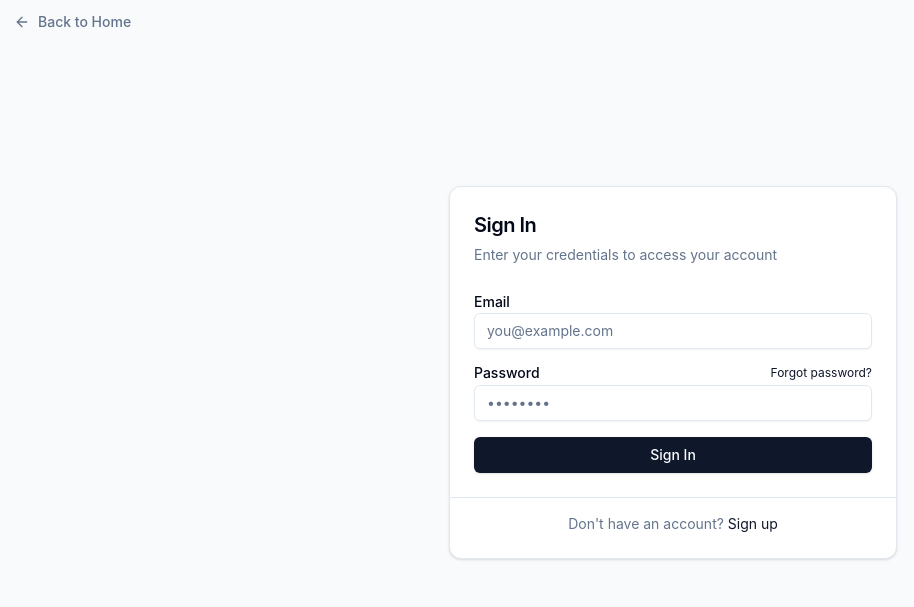
Login Component › displays error message if login fails
Type "test@example.com" into the field labelled "Email". click: x=673, y=330
box: [474, 312, 872, 348]
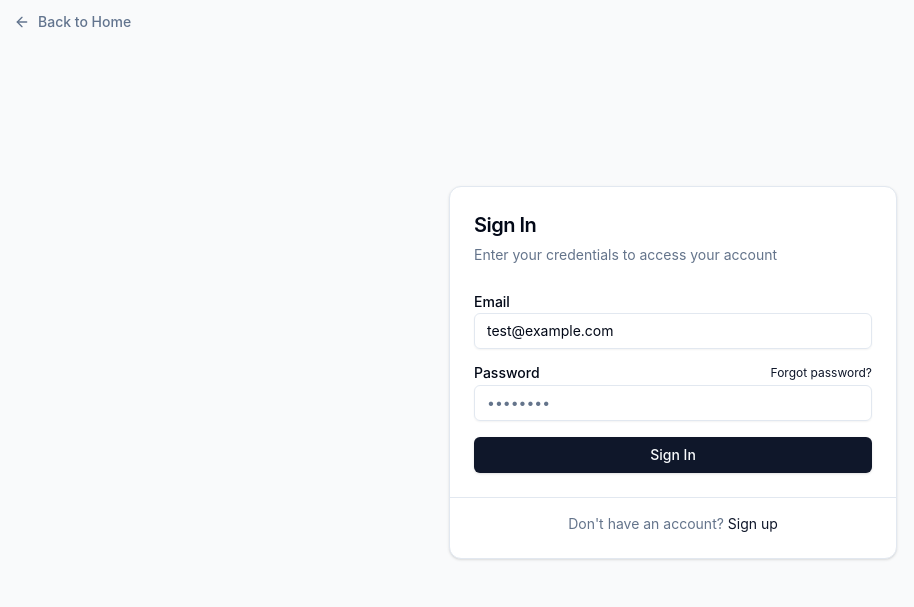
Type "Password123!" into the password field labelled "Password". click: x=673, y=402
box: [474, 384, 872, 420]
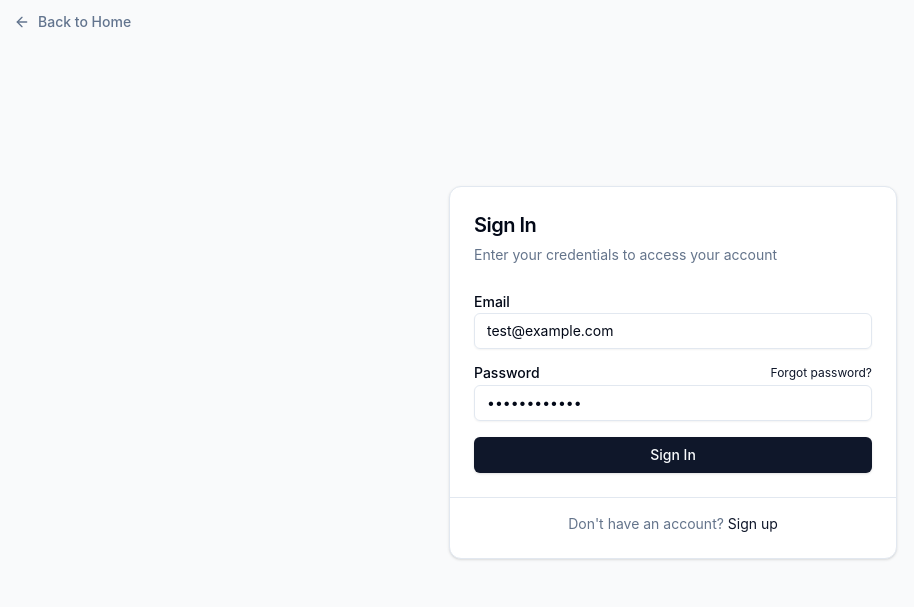
Click the button "Sign In". click: x=673, y=454
box: [474, 436, 872, 472]
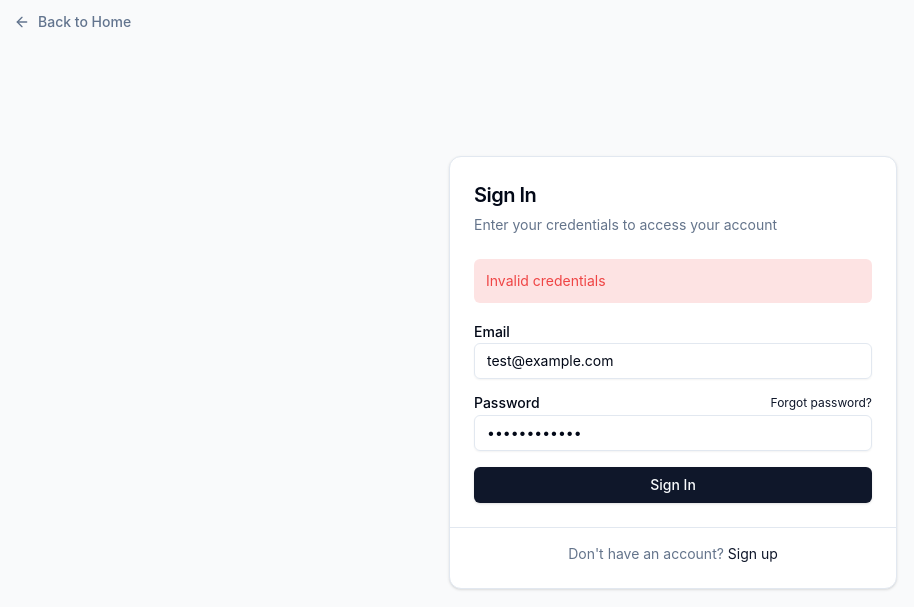
Expected: the text "Invalid credentials" is shown, [474, 258, 872, 302]
